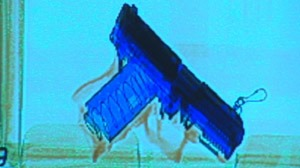gun: (80, 1, 246, 162)
